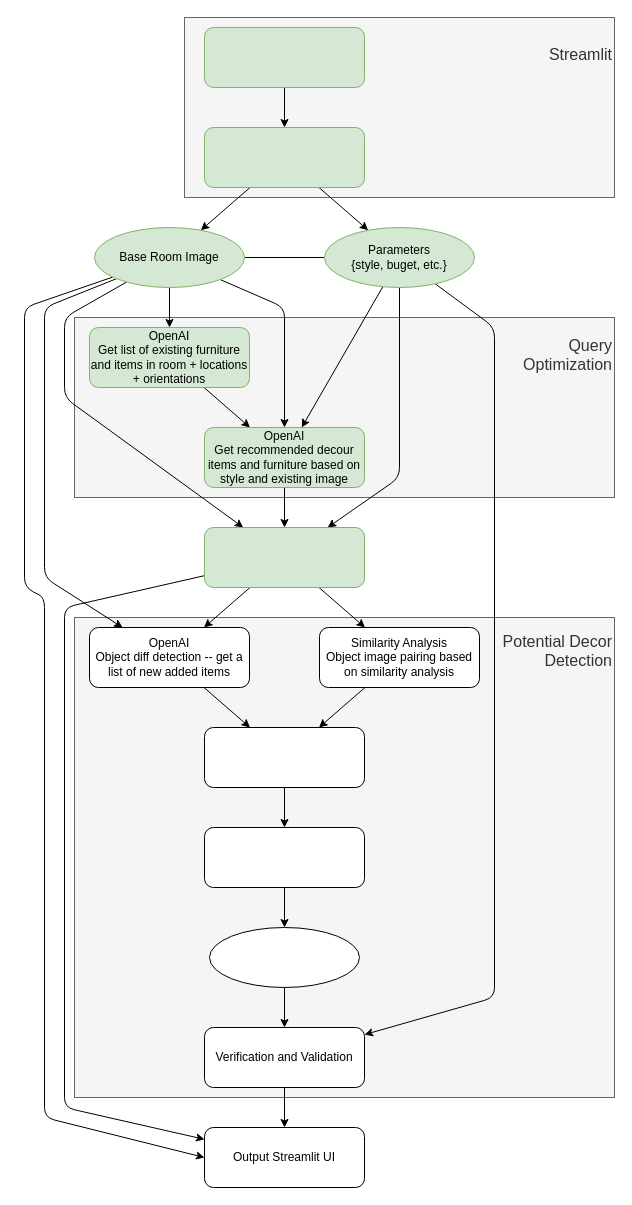
This 632x1205 diagram has some shape labels left out. The shapes that lost their labels are listed below. From the top down, each one's centre as x and y in pixels, then its label:
[284,57]: User
[284,157]: Streamlit UI
[284,557]: StableDesign Model Create our new room design
[284,757]: Diff item pairings with cropped images
[284,857]: Selenium Reverse Image Search
[284,957]: Filtered Data {items, images, prices, urls}
